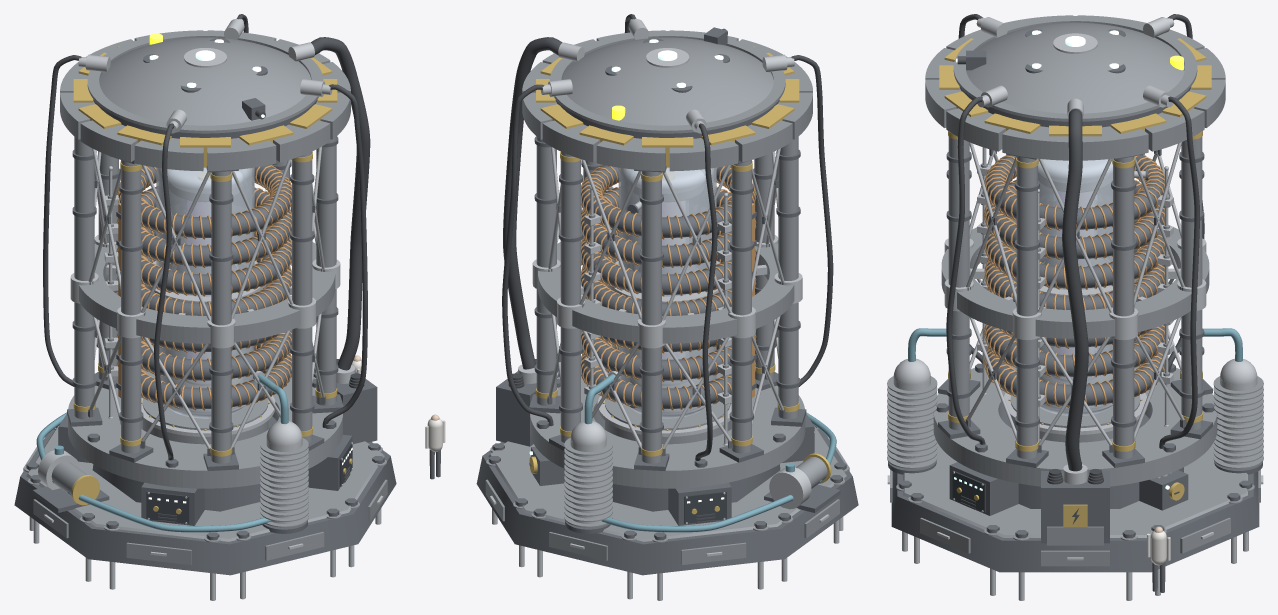
File: resonador_omega.glb
3 views of the same model, side by side, from view 1: azimuth 30°, elevation 25°; view 2: azimuth 150°, elevation 25°; view 3: azimuth 270°, elevation 25° (orthographic). The views are drawn at different scales.
Visible parts, largest first — view 1: Cabeza, Plataforma_Base, Carrete (×7), Anillo_Inferior, Devanado_Cobre (×6), Columna_03, Columna_04, Anillo_Intermedio, Columna_02, Columna_05, Intercambiador_A, Pedestal_Equipos (+32 smaller); view 2: Cabeza, Plataforma_Base, Carrete (×6), Anillo_Inferior, Devanado_Cobre (×6), Columna_06, Anillo_Intermedio, Columna_05, Columna_07, Columna_04, Intercambiador_B, Pedestal_Equipos (+31 smaller); view 3: Cabeza, Plataforma_Base, Carrete (×6), Anillo_Inferior, Devanado_Cobre (×6), Columna_01, Columna_08, Anillo_Intermedio, Intercambiador_B, Intercambiador_A, Columna_07, Fuente_Energia (+26 smaller).
Part boxes in pixels (x1,y1,x2,y2): Cabeza: (85, 19, 324, 138); Plataforma_Base: (14, 427, 396, 575); Carrete (×7): (118, 165, 291, 408); Anillo_Inferior: (68, 370, 342, 488); Devanado_Cobre (×6): (116, 165, 291, 410); Columna_03: (203, 165, 238, 470); Columna_04: (109, 156, 153, 462); Anillo_Intermedio: (79, 238, 335, 343); Columna_02: (288, 151, 324, 450); Columna_05: (67, 136, 102, 426); Intercambiador_A: (253, 371, 308, 533); Pedestal_Equipos: (92, 395, 276, 511); Cabeza: (548, 19, 787, 138); Plataforma_Base: (476, 427, 858, 575); Carrete (×6): (581, 165, 754, 408); Anillo_Inferior: (530, 373, 805, 488); Devanado_Cobre (×6): (581, 164, 756, 410); Columna_06: (634, 165, 669, 470); Anillo_Intermedio: (538, 237, 794, 343); Columna_05: (719, 156, 763, 462); Columna_07: (549, 151, 584, 450); Columna_04: (771, 137, 806, 426); Intercambiador_B: (564, 371, 620, 533); Pedestal_Equipos: (596, 396, 780, 511); Cabeza: (953, 16, 1197, 127); Plataforma_Base: (887, 442, 1263, 572); Carrete (×6): (985, 155, 1164, 406); Anillo_Inferior: (933, 363, 1217, 486); Devanado_Cobre (×6): (983, 154, 1164, 407); Columna_01: (1006, 153, 1048, 467); Columna_08: (1102, 153, 1144, 467); Anillo_Intermedio: (941, 225, 1209, 338); Intercambiador_B: (1203, 328, 1263, 474); Intercambiador_A: (887, 328, 946, 474); Columna_07: (1170, 131, 1212, 439); Fuente_Energia: (1041, 464, 1109, 545).
Bounding box in the file's own units: 10.54 × 13.25 × 9.28.
